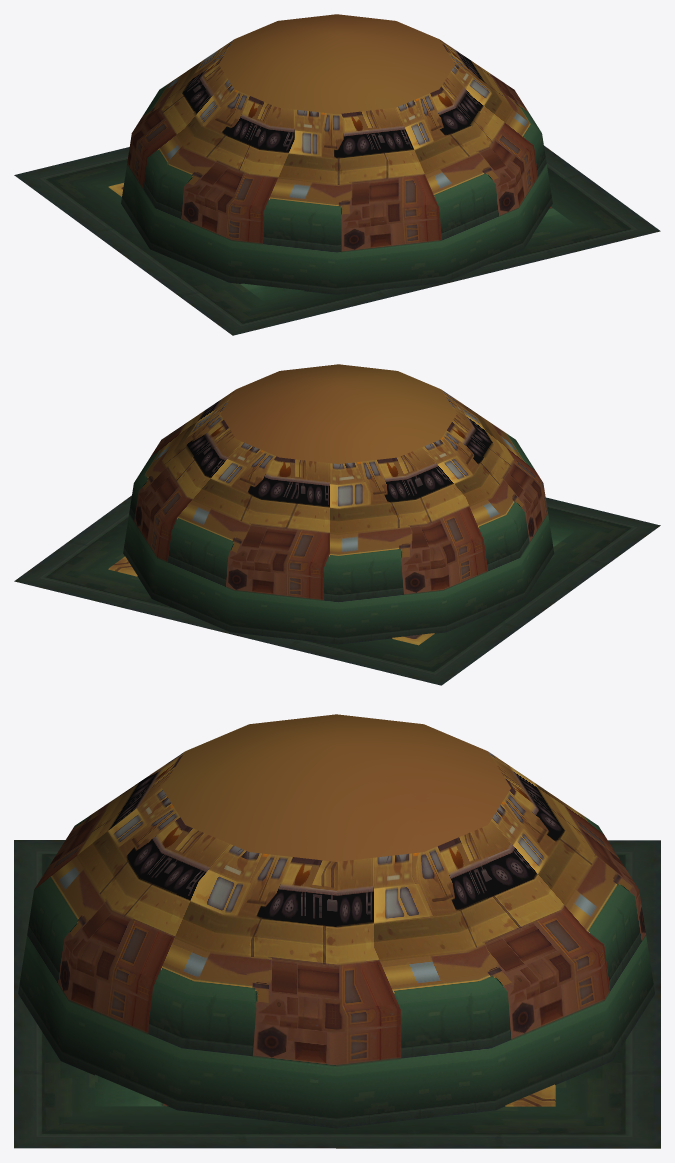
File: Combined_Mesh_root_scene__8_c5249964__junkyard_diffuse_06_d_12edbdea_c1f257.obj
3 renders of one model, top to bottom at view 1: azimuth 30°, elevation 25°; view 2: azimuth 150°, elevation 25°; view 3: azimuth 270°, elevation 25°, orthographic. The views are drawn at different scales.
Bounding box in the file's own units: 109 × 41.29 × 96.33.
Materials: 294 (294 with a texture image).
